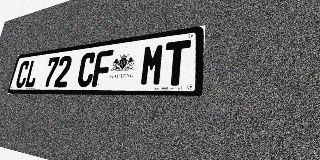2: (54, 55, 73, 87)
7: (42, 57, 60, 88)
C: (76, 52, 97, 87), (14, 60, 31, 88)
F: (91, 50, 114, 87)
L: (24, 59, 41, 88)
M: (139, 43, 166, 86)
T: (162, 39, 191, 86)
